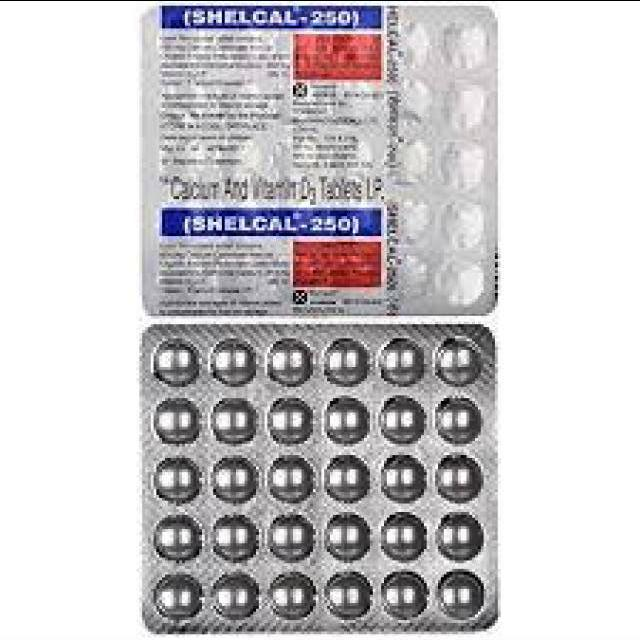authentic: (128, 0, 513, 321), (130, 314, 502, 626)
